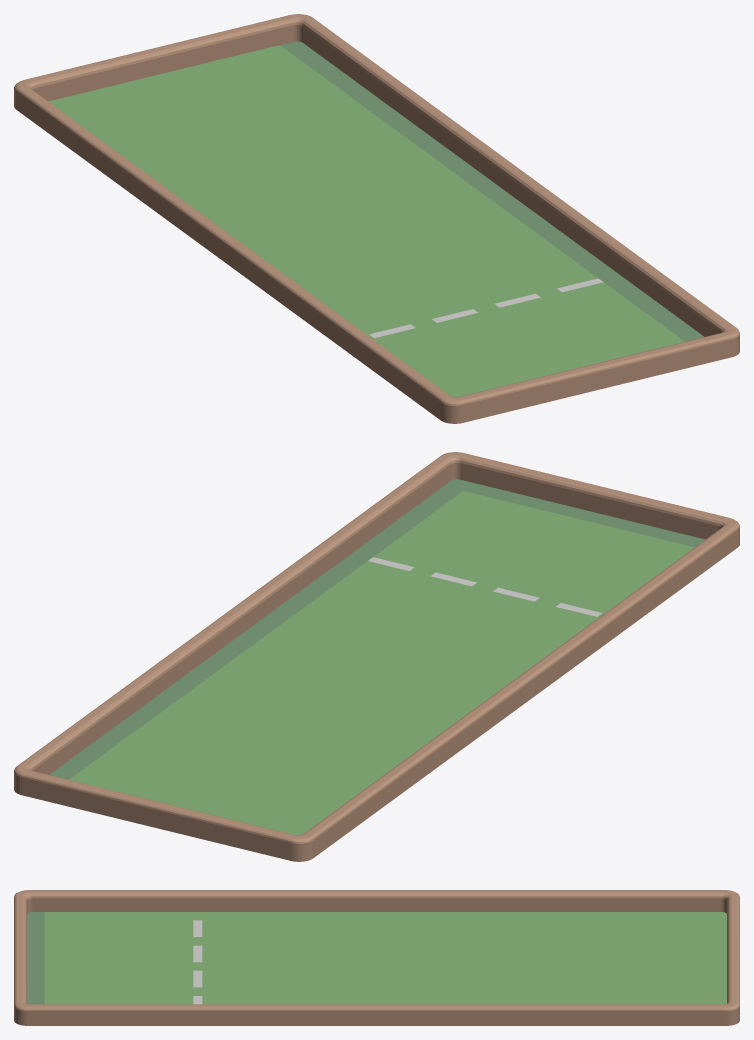
Rendered from ground-new.glb.
The picture shows the model from 3 angles, top to bottom: view 1: azimuth 30°, elevation 25°; view 2: azimuth 150°, elevation 25°; view 3: azimuth 270°, elevation 25°; orthographic projection. The views are drawn at different scales.
Parts seen in each view (by area): view 1: Plane, Cube.005; view 2: Plane, Cube.005; view 3: Plane, Cube.005.
Part boxes in pixels (x1=…): Plane: x1=48, y1=41, x2=704, y2=396; Cube.005: x1=14, y1=14, x2=739, y2=423; Plane: x1=49, y1=479, x2=705, y2=834; Cube.005: x1=14, y1=452, x2=739, y2=861; Plane: x1=27, y1=912, x2=726, y2=1004; Cube.005: x1=14, y1=890, x2=739, y2=1025.
Size of the model in its own units: 4.84 by 0.33 by 12.44.
